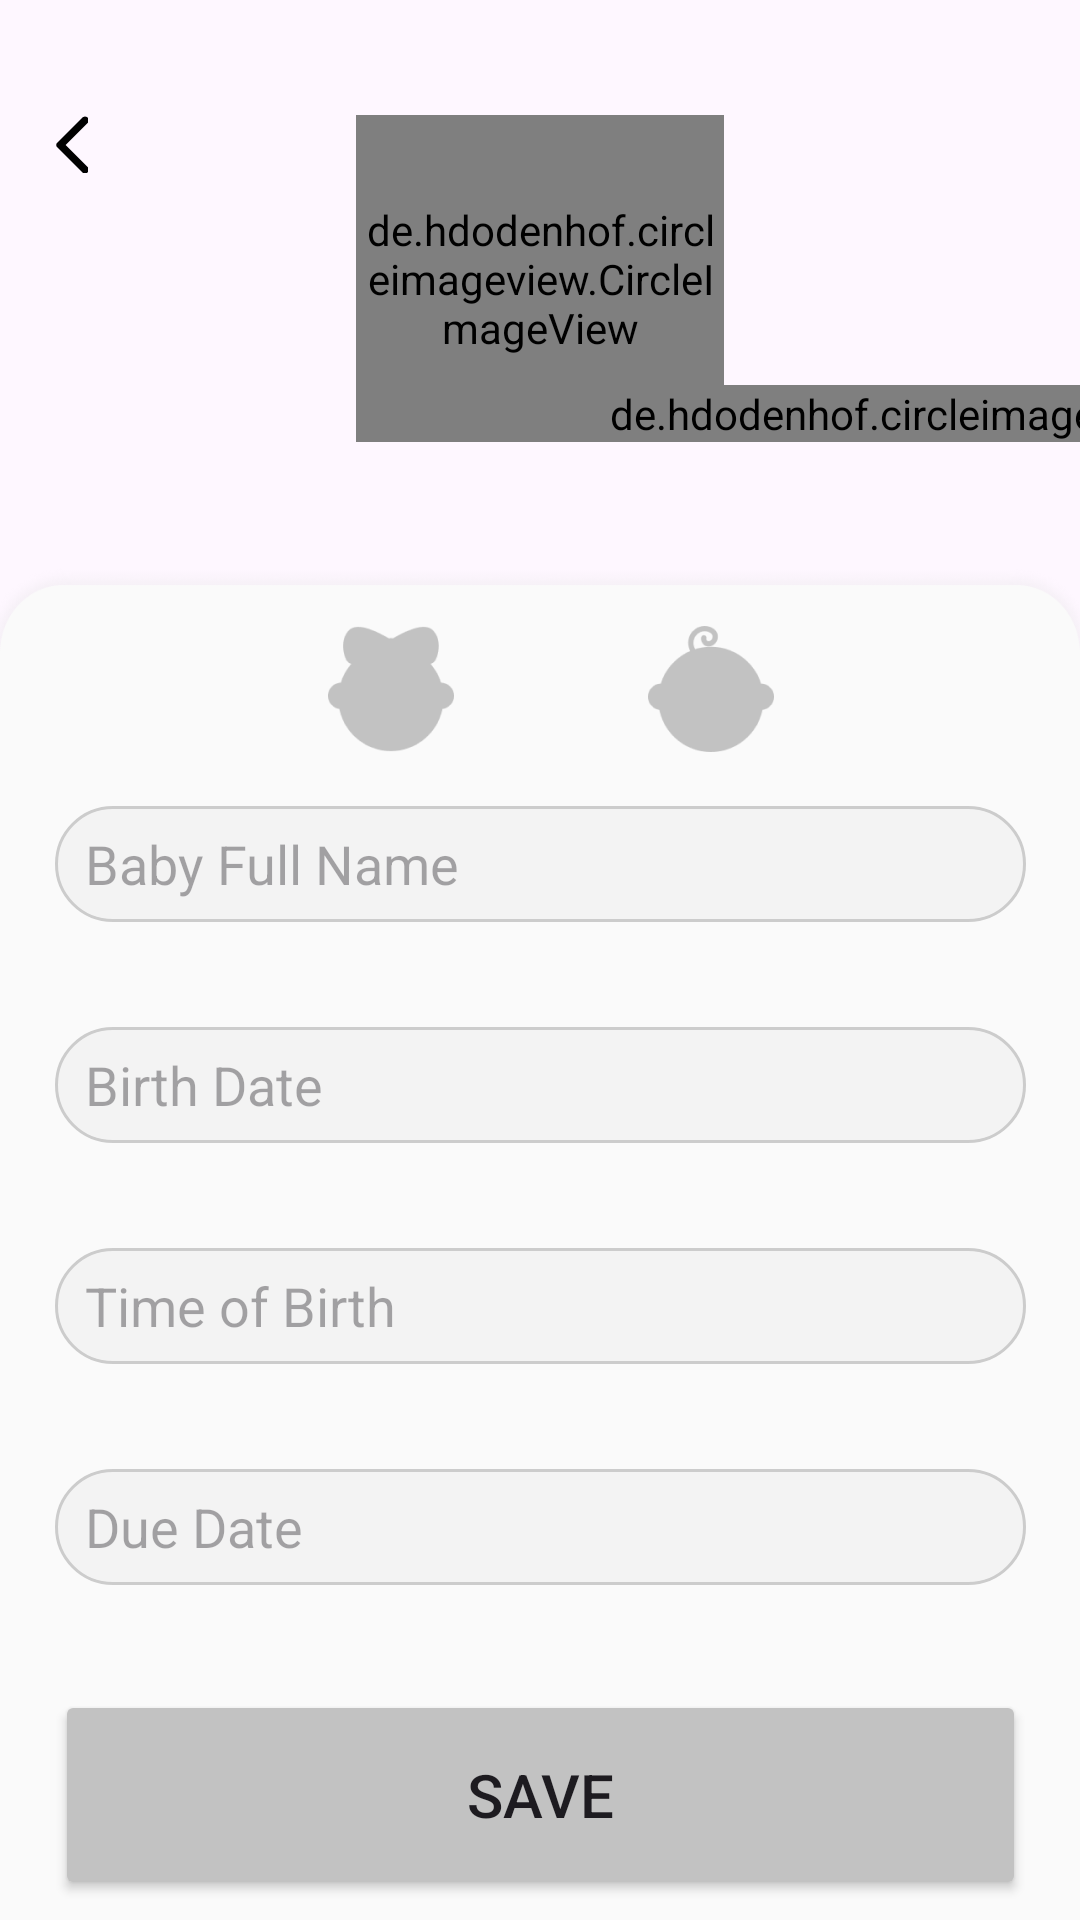

Point at icon controls on the screen. Image size 1080×1920, points as [x,y].
baby famale unslected: [391,689]
baby male unslected: [711,689]
back: [72,144]
